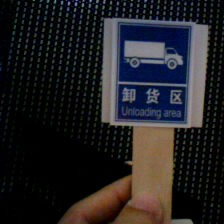unload: (106, 15, 196, 126)
